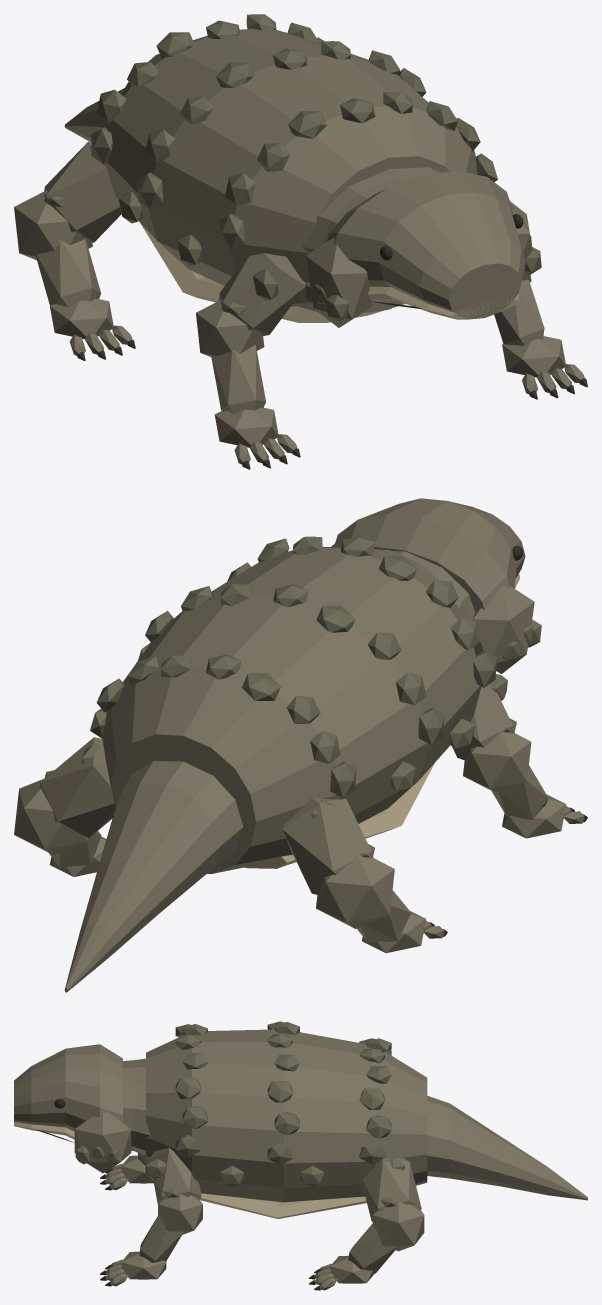
3 renders of one model, top to bottom at view 1: azimuth 30°, elevation 25°; view 2: azimuth 150°, elevation 25°; view 3: azimuth 270°, elevation 25°, orthographic. The views are drawn at different scales.
Parts seen in each view (by area): view 1: surface_earth_olive_brown, surface_low_osteoderms, surface_warm_underside, surface_eyes_claws; view 2: surface_earth_olive_brown, surface_low_osteoderms, surface_warm_underside; view 3: surface_earth_olive_brown, surface_low_osteoderms, surface_warm_underside, surface_eyes_claws.
Boxes of the visible parts, x1,y1,x2,y2 form: surface_earth_olive_brown: (14, 28, 584, 464); surface_low_osteoderms: (43, 14, 541, 321); surface_warm_underside: (140, 222, 519, 322); surface_eyes_claws: (77, 214, 587, 469); surface_earth_olive_brown: (14, 498, 584, 992); surface_low_osteoderms: (45, 535, 541, 857); surface_warm_underside: (244, 574, 520, 868); surface_earth_olive_brown: (14, 1029, 587, 1290); surface_low_osteoderms: (75, 1021, 404, 1206); surface_warm_underside: (14, 1122, 366, 1218); surface_eyes_claws: (37, 1099, 320, 1290).
Bounding box in the file's own units: 0.5111 × 0.379 × 1.
